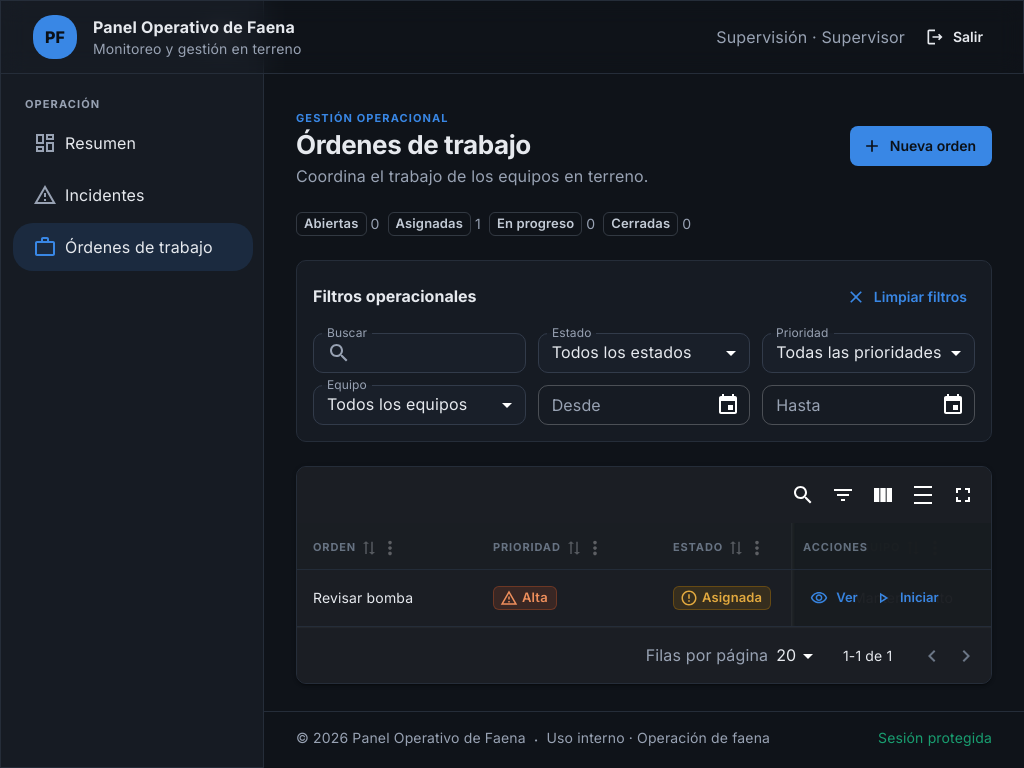
Test case: App › renders the work-order board and lifecycle actions
Expected: the text "Revisar bomba" is shown, top-left (297, 570), bottom-right (477, 627)
Expected: the text "Asignadas" is shown, top-left (396, 215), bottom-right (463, 231)
Click the button "Ver" at (835, 598), box top-left (803, 578), bottom-right (867, 618)
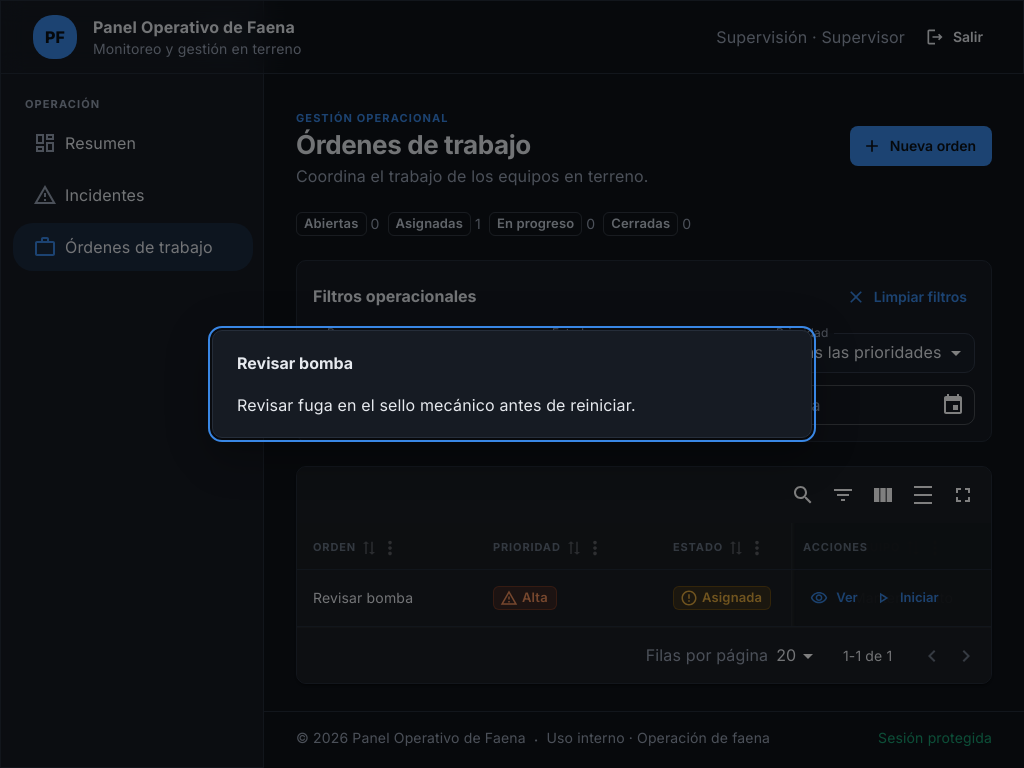
Expected: the heading "Revisar bomba" is shown, top-left (237, 351), bottom-right (353, 377)
Expected: the text "Revisar fuga en el sello mecánico antes de reiniciar." is shown, top-left (237, 395), bottom-right (636, 415)
Press Escape
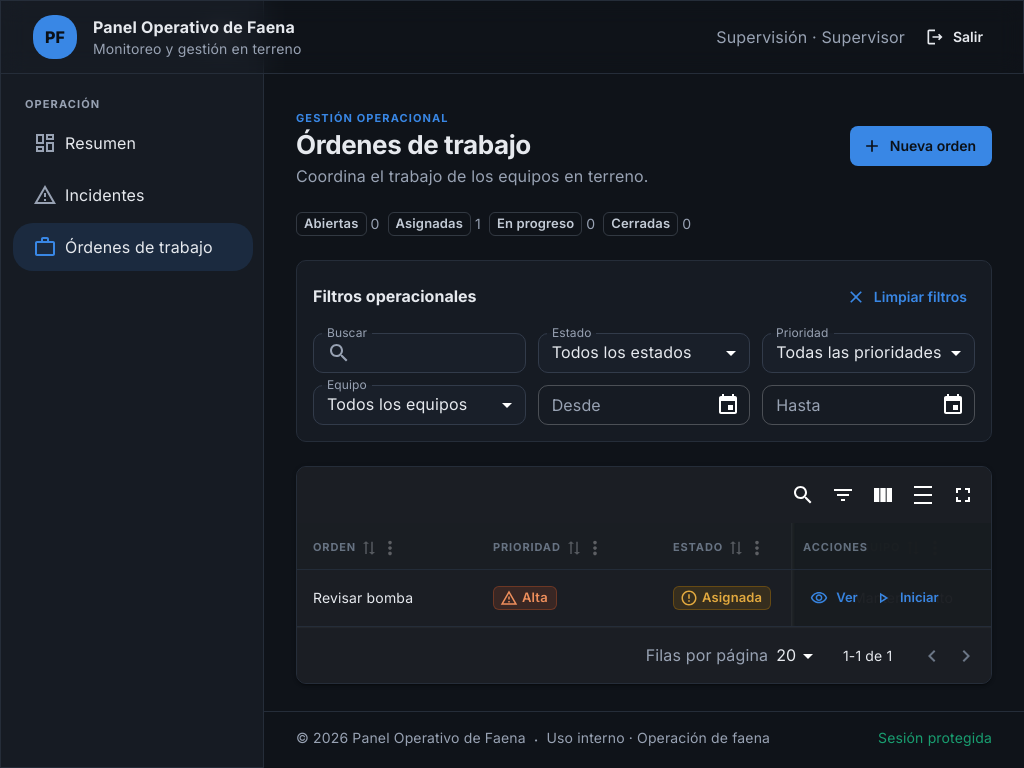
Expected: the dialog is gone
